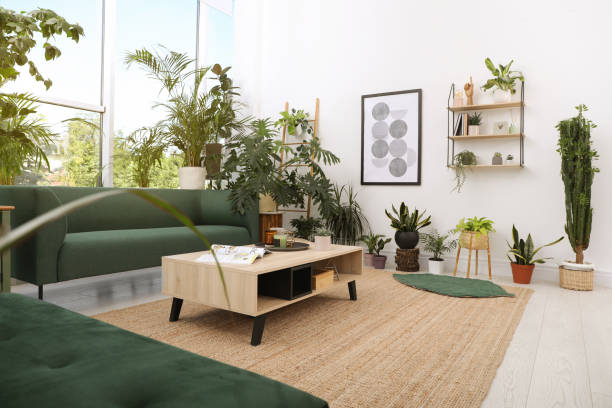large plant: (148, 48, 229, 188), (240, 120, 335, 210), (556, 110, 598, 293)
small plant: (505, 222, 553, 285), (386, 198, 431, 248), (480, 54, 521, 104), (421, 227, 452, 276), (454, 214, 493, 248), (364, 228, 391, 268), (468, 110, 481, 134)
sofa: (0, 184, 261, 300)
table: (158, 238, 363, 346)
wall art: (358, 87, 423, 187)
